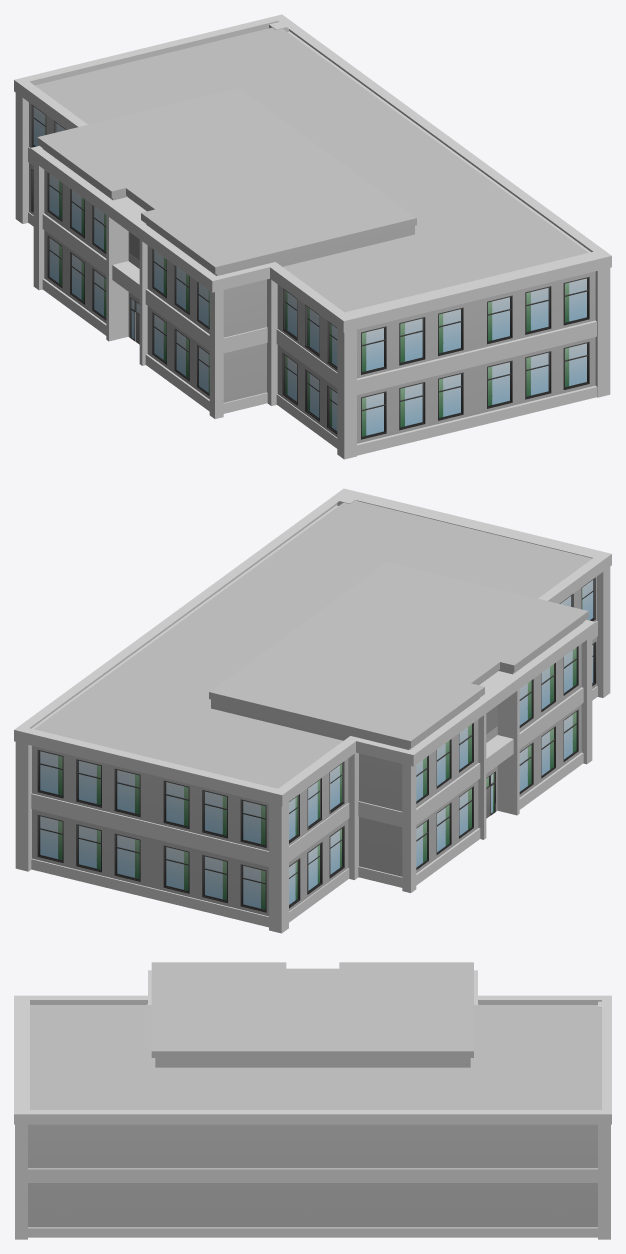
The model's file is SMP_Building.fbx.
The picture shows the model from 3 angles, top to bottom: view 1: azimuth 30°, elevation 25°; view 2: azimuth 150°, elevation 25°; view 3: azimuth 270°, elevation 25°; orthographic projection. The views are drawn at different scales.
Parts seen in each view (by area): view 1: SMP_LOD0; view 2: SMP_LOD0; view 3: SMP_LOD0.
Boxes of the visible parts, x1=… form: SMP_LOD0: x1=14, y1=14, x2=611, y2=459; SMP_LOD0: x1=14, y1=488, x2=611, y2=933; SMP_LOD0: x1=14, y1=962, x2=611, y2=1239.
Size of what is drawn, in the model's own units: 2917 by 1285 by 5117.
